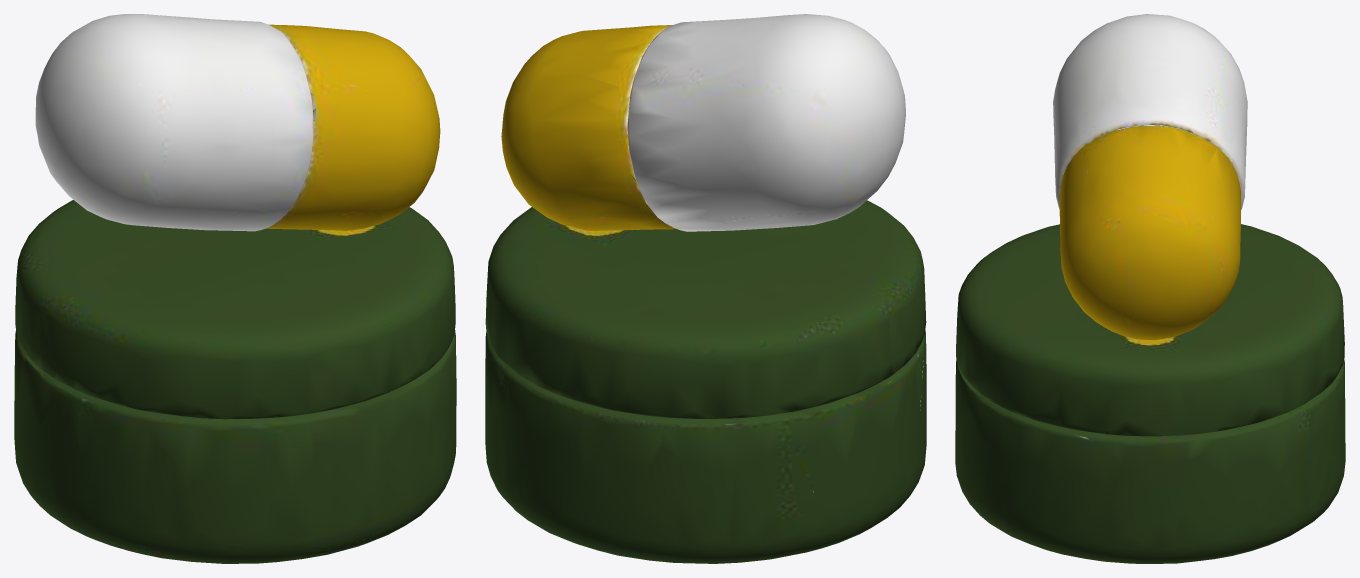
File: vitaminas.glb
3 views of the same model, side by side, from view 1: azimuth 30°, elevation 25°; view 2: azimuth 150°, elevation 25°; view 3: azimuth 270°, elevation 25° (orthographic). The views are drawn at different scales.
Parts seen in each view (by area): view 1: objeto; view 2: objeto; view 3: objeto.
Boxes of the visible parts, x1,y1,x2,y2 form: objeto: (14, 14, 456, 563); objeto: (485, 14, 926, 563); objeto: (955, 14, 1345, 563).
Size of the model in its own units: 0.8697 by 1.06 by 0.8697.
1 material, 1 textured.
